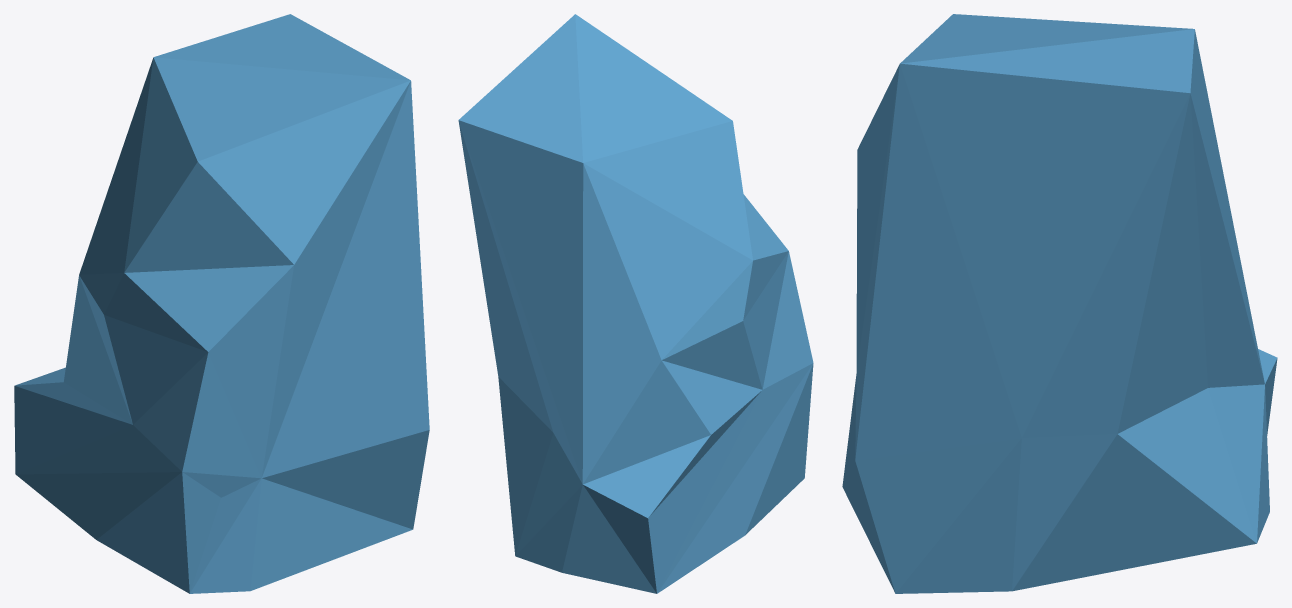
The model's file is SP_Rock02.fbx.
The picture shows the model from 3 angles, left to right: view 1: azimuth 30°, elevation 25°; view 2: azimuth 150°, elevation 25°; view 3: azimuth 270°, elevation 25°; orthographic projection. The views are drawn at different scales.
Parts seen in each view (by area): view 1: SP_Rock02; view 2: SP_Rock02; view 3: SP_Rock02.
Part boxes in pixels (x1,y1,x2,y2): SP_Rock02: [14, 14, 429, 593]; SP_Rock02: [458, 14, 813, 593]; SP_Rock02: [842, 14, 1277, 593].
Size of the model in its own units: 63.71 by 109 by 80.75.
Materials: 1 (1 with a texture image).
